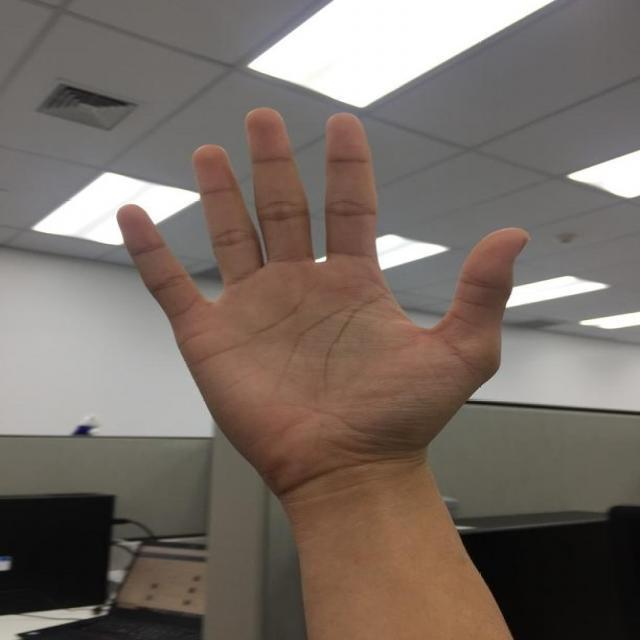hand: (114, 105, 529, 487)
